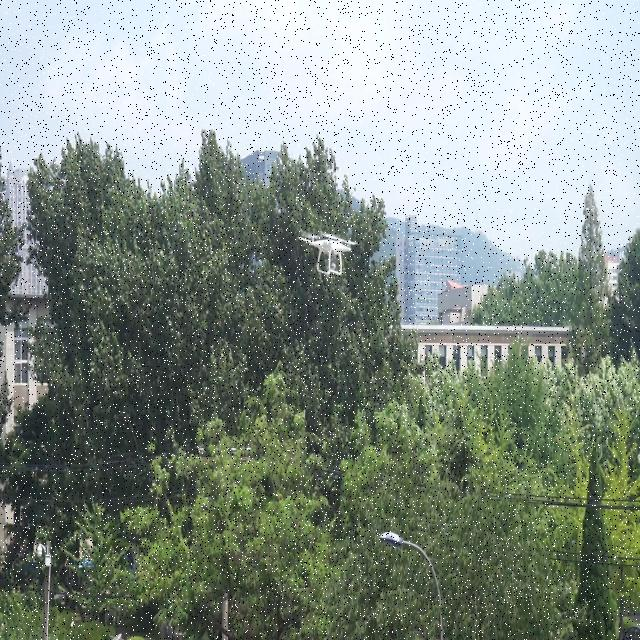UAV: (298, 232, 361, 275)
